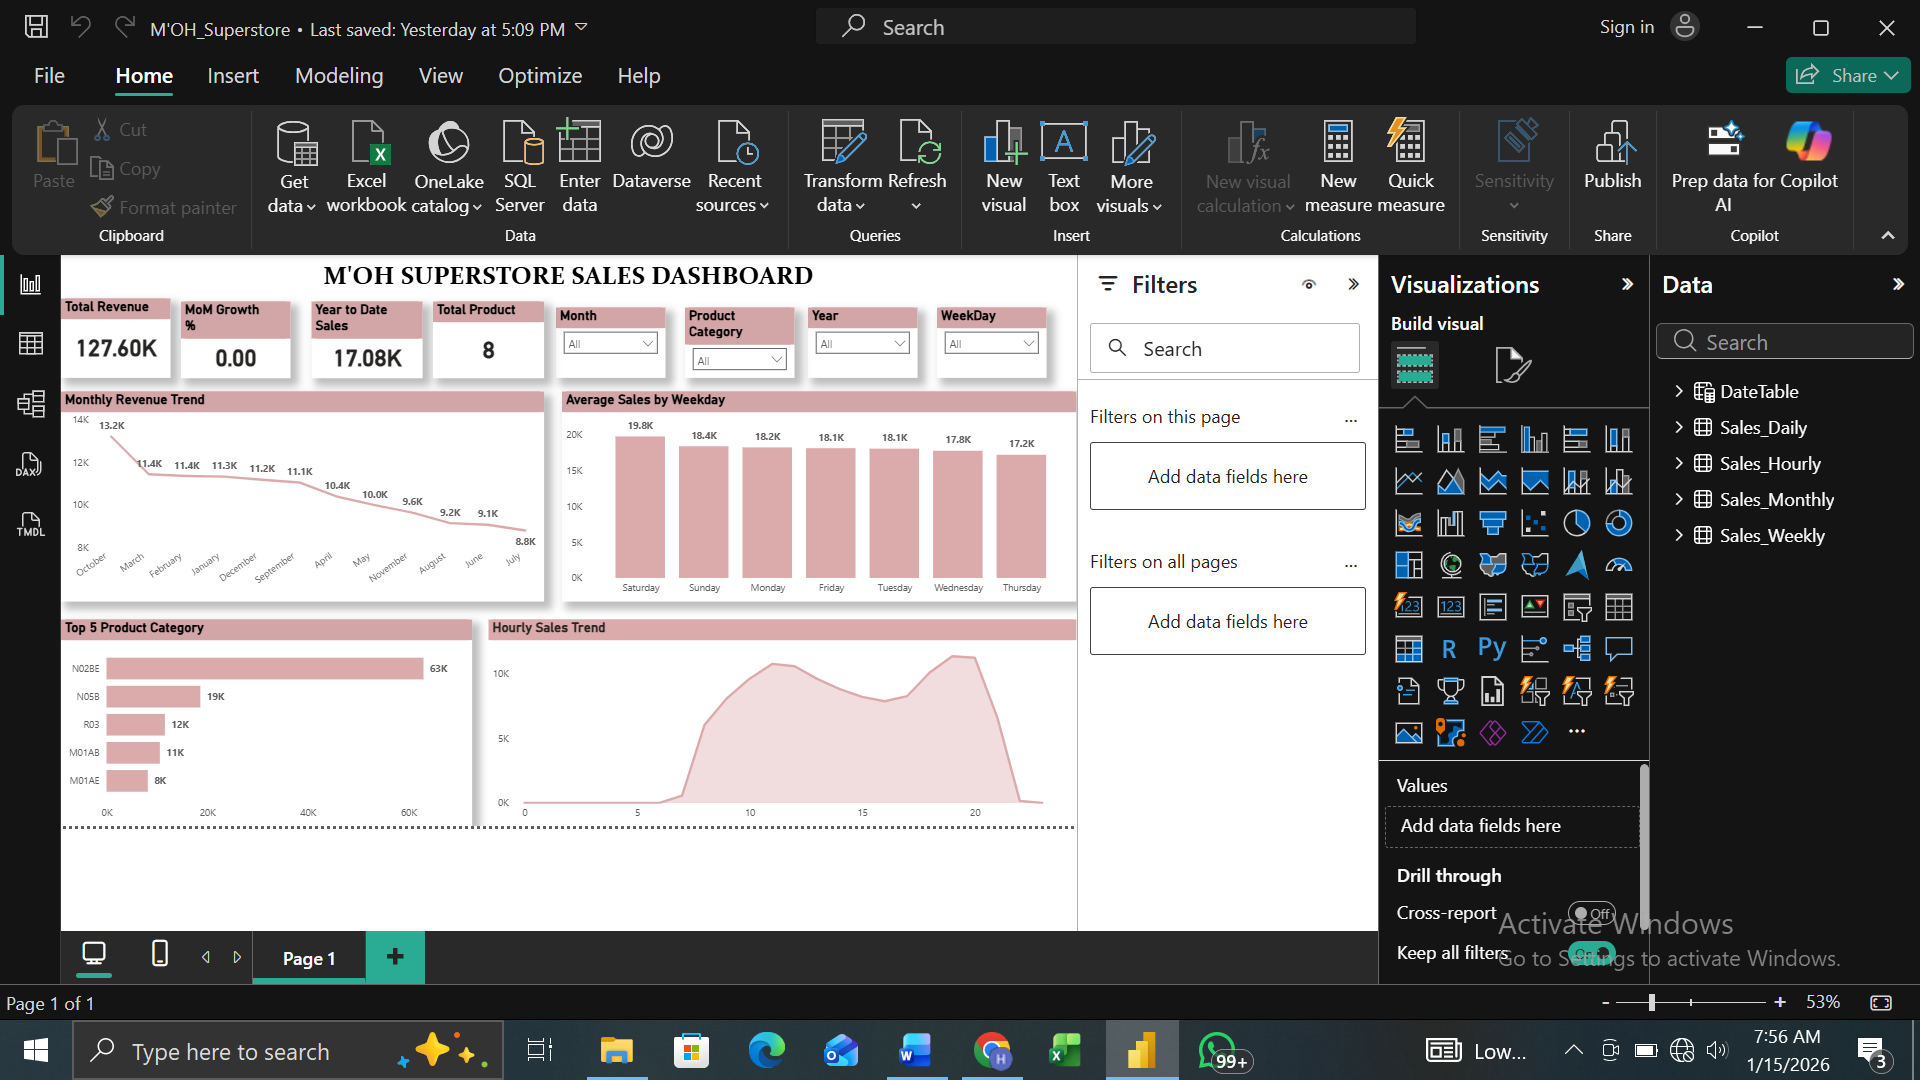

This screenshot's page, from the dashboard's own definition file:
{"tool":"powerbi","page":{"name":"Page 1","canvas":[1280,720],"ordinal":0},"visuals":[{"type":"textbox","box":[0,0,1279.4,54.8],"z":0},{"type":"card","title":"Total Revenue","fields":{"Values":["Sum(Sales_Weekly.Sales)"]},"box":[0,54.8,138,100.2],"z":1000},{"type":"card","title":"MoM Growth %","fields":{"Values":["Sales_Monthly.MoM Growth%"]},"box":[151.2,58.6,138,96.4],"z":2000},{"type":"card","title":"Year to Date Sales","fields":{"Values":["DateTable.YTD Sales"]},"box":[315.6,58.6,139.8,96.4],"z":3000},{"type":"slicer","title":"Month","fields":{"Values":["DateTable.Month"]},"box":[623.6,66.1,138,88.8],"z":4000},{"type":"slicer","title":"Year","fields":{"Values":["DateTable.Year"]},"box":[941.1,66.1,138,88.8],"z":5000},{"type":"card","title":"Total Product","fields":{"Values":["Count(Sales_Monthly.Product Category)"]},"box":[468.7,58.6,139.8,96.4],"z":6000},{"type":"slicer","title":"Product Category","fields":{"Values":["Sales_Monthly.Product Category"]},"box":[786.1,66.1,138,88.8],"z":7000},{"type":"lineChart","title":"Monthly Revenue Trend","fields":{"Y":["Sum(Sales_Monthly.Sales)"],"Category":["DateTable.Month"]},"box":[0,172,608.5,264.6],"z":8000},{"type":"slicer","title":"WeekDay","fields":{"Values":["DateTable.Weekday"]},"box":[1103.6,66.1,138,88.8],"z":9000},{"type":"columnChart","title":"Average Sales by Weekday","fields":{"Category":["DateTable.Weekday"],"Y":["Sum(Sales_Daily.Sales)"]},"box":[631.2,172,648.2,264.6],"z":10000},{"type":"clusteredBarChart","title":"Top 5 Product Category","fields":{"Category":["Sales_Daily.Product Category"],"Y":["Sales_Daily.Total Sales Daily"]},"box":[0,459.2,517.8,260.8],"z":11000},{"type":"lineChart","title":"Hourly Sales Trend","fields":{"Category":["Sales_Hourly.Hour"],"Y":["Sum(Sales_Hourly.Sales)"]},"box":[538.6,459.2,740.8,260.8],"z":12000}]}

Visuals, with their boxes on the page's 1280x720 design canvas (x1, y1, x2, y2). These are canvas units, not pixel positions in the 1920x1080 screenshot, which may show the page scaled, cropped or inside an application window:
textbox: <region>0, 0, 1279, 55</region>
"Total Revenue" card: <region>0, 55, 138, 155</region>
"MoM Growth %" card: <region>151, 59, 289, 155</region>
"Year to Date Sales" card: <region>316, 59, 455, 155</region>
"Month" slicer: <region>624, 66, 762, 155</region>
"Year" slicer: <region>941, 66, 1079, 155</region>
"Total Product" card: <region>469, 59, 608, 155</region>
"Product Category" slicer: <region>786, 66, 924, 155</region>
"Monthly Revenue Trend" lineChart: <region>0, 172, 608, 437</region>
"WeekDay" slicer: <region>1104, 66, 1242, 155</region>
"Average Sales by Weekday" columnChart: <region>631, 172, 1279, 437</region>
"Top 5 Product Category" clusteredBarChart: <region>0, 459, 518, 720</region>
"Hourly Sales Trend" lineChart: <region>539, 459, 1279, 720</region>
